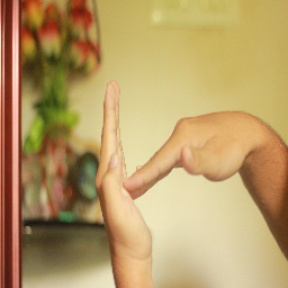Z: (83, 71, 258, 264)
